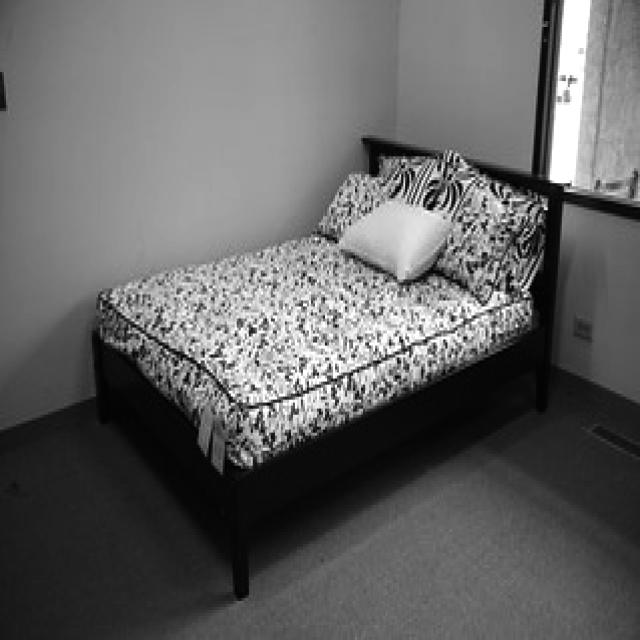bed: (98, 128, 562, 570)
